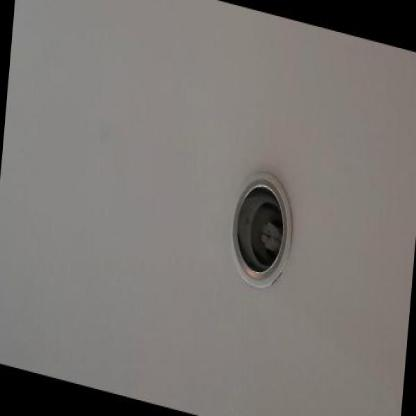light_off: (219, 143, 305, 305)
